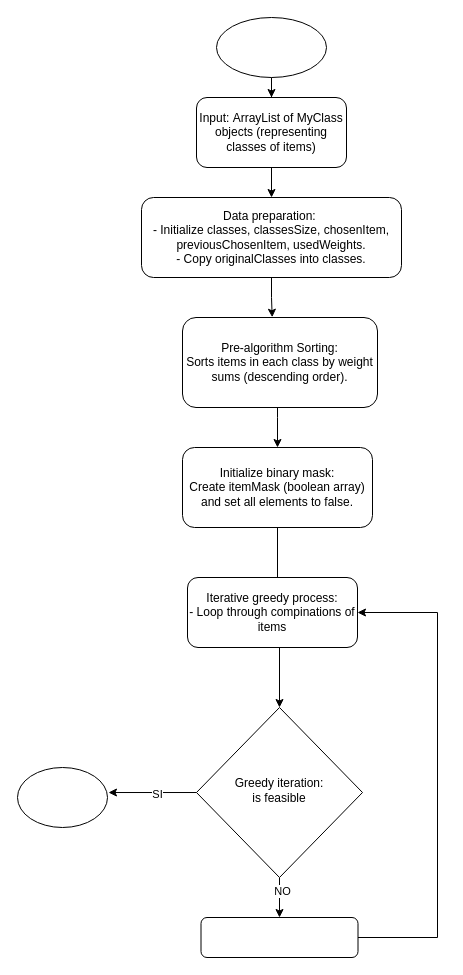
The diagram is 463 pixels wide and 975 high, and some of its shapes have lost their labels. The box of each missing label's shape, as (x1, y1, x2, y2) in pixels:
END: (16, 766, 108, 828)
Generate new mask: (200, 916, 358, 958)
START: (216, 16, 326, 78)
